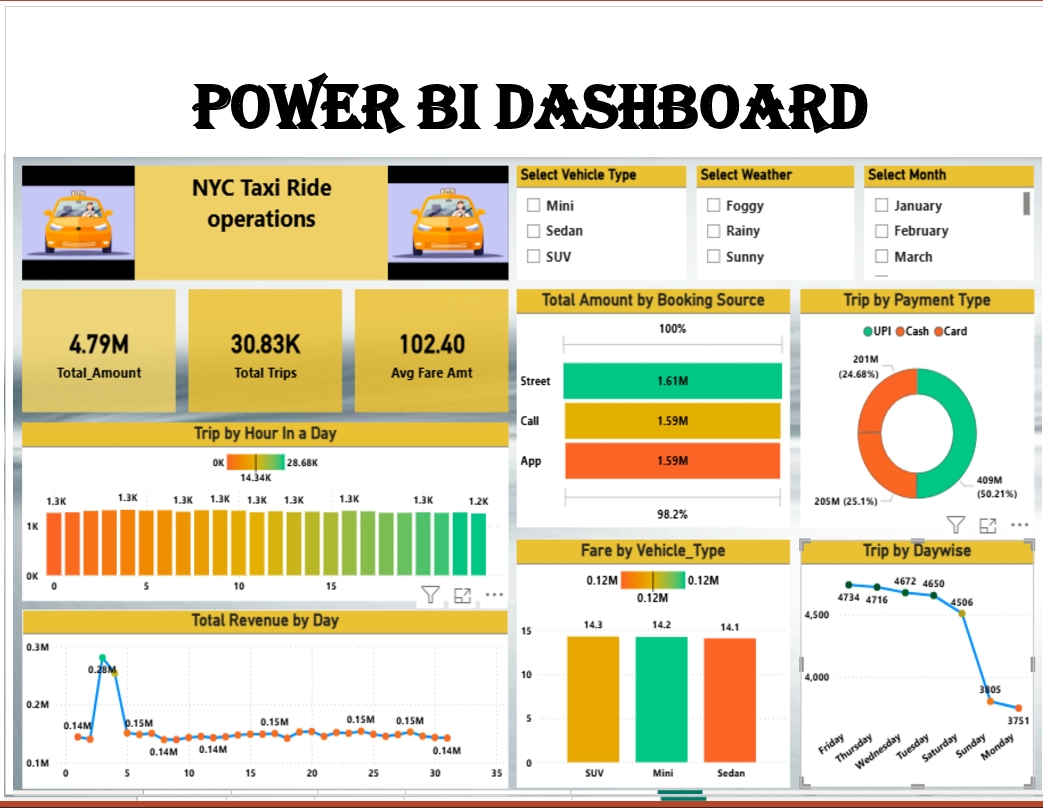

This screenshot's page, from the dashboard's own definition file:
{"tool":"powerbi","page":{"name":"Page 1","canvas":[1280,720],"ordinal":0},"visuals":[{"type":"textbox","box":[151.7,9.9,314.6,130.4],"z":0},{"type":"card","fields":{"Values":["Sum(urban_ride nyc_ride.total_amount)"]},"box":[11.3,150.2,191.3,140.3],"z":1000},{"type":"image","box":[11.3,9.9,140.3,130.4],"z":2000},{"type":"card","title":"Total Trips","fields":{"Values":["CountNonNull(urban_ride nyc_ride.trip_id)"]},"box":[218.3,150.2,191.3,140.3],"z":3000},{"type":"card","fields":{"Values":["Avg(urban_ride nyc_ride.fare_amount)"]},"box":[425.2,150.2,191.3,140.3],"z":4000},{"type":"columnChart","title":"Trip by Hour In a Day","fields":{"Category":["urban_ride nyc_ride.pickup_hour"],"Y":["CountNonNull(urban_ride nyc_ride.trip_id)"]},"box":[11.3,301.9,605.2,202.7],"z":5000},{"type":"lineChart","title":"Total Revenue by Day","fields":{"Category":["urban_ride nyc_ride.pickup_date.Variation.Date Hierarchy.Day"],"Y":["Sum(urban_ride nyc_ride.total_amount)"]},"box":[11,515,605,203],"z":6000},{"type":"funnel","title":"Total Amount by Booking Source","fields":{"Category":["urban_ride nyc_ride.booking_source"],"Y":["Sum(urban_ride nyc_ride.total_amount)"]},"box":[626.5,150.2,340.2,270.7],"z":7000},{"type":"donutChart","title":"Trip by Payment Type","fields":{"Category":["urban_ride nyc_ride.payment_type"],"Y":["Sum(urban_ride nyc_ride.trip_id)"]},"box":[979.4,150.2,290.6,270.7],"z":8000},{"type":"columnChart","title":"Fare by Vehicle_Type","fields":{"Category":["urban_ride nyc_ride.vehicle_type"],"Y":["Avg(urban_ride nyc_ride.fare_amt_per_km)"]},"box":[626.5,435.1,340.2,282],"z":9000},{"type":"lineChart","title":"Trip by Daywise","fields":{"Y":["CountNonNull(urban_ride nyc_ride.trip_id)"],"Category":["urban_ride nyc_ride.day_of_week"]},"box":[979.4,435.1,300.5,272.1],"z":10000},{"type":"slicer","title":"Select Weather","fields":{"Values":["urban_ride nyc_ride.weather"]},"box":[850.4,9.9,195.6,130.4],"z":11000},{"type":"slicer","title":"Select Month","fields":{"Values":["urban_ride nyc_ride.pickup_date.Variation.Date Hierarchy.Month"]},"box":[1058.7,9.9,211.2,130.4],"z":12000},{"type":"slicer","title":"Select Vehicle Type","fields":{"Values":["urban_ride nyc_ride.vehicle_type"]},"box":[626.5,9.9,211.2,130.4],"z":13000},{"type":"image","box":[466.3,9.9,150.2,130.4],"z":14000}]}

Visuals, with their boxes on the page's 1280x720 design canvas (x1, y1, x2, y2). These are canvas units, not pixel positions in the 1043x808 screenshot, which may show the page scaled, cropped or inside an application window:
textbox: (left=152, top=10, right=466, bottom=140)
card - Sum(urban_ride nyc_ride.total_amount): (left=11, top=150, right=203, bottom=290)
image: (left=11, top=10, right=152, bottom=140)
"Total Trips" card: (left=218, top=150, right=410, bottom=290)
card - Avg(urban_ride nyc_ride.fare_amount): (left=425, top=150, right=616, bottom=290)
"Trip by Hour In a Day" columnChart: (left=11, top=302, right=616, bottom=505)
"Total Revenue by Day" lineChart: (left=11, top=515, right=616, bottom=718)
"Total Amount by Booking Source" funnel: (left=626, top=150, right=967, bottom=421)
"Trip by Payment Type" donutChart: (left=979, top=150, right=1270, bottom=421)
"Fare by Vehicle_Type" columnChart: (left=626, top=435, right=967, bottom=717)
"Trip by Daywise" lineChart: (left=979, top=435, right=1280, bottom=707)
"Select Weather" slicer: (left=850, top=10, right=1046, bottom=140)
"Select Month" slicer: (left=1059, top=10, right=1270, bottom=140)
"Select Vehicle Type" slicer: (left=626, top=10, right=838, bottom=140)
image: (left=466, top=10, right=616, bottom=140)
